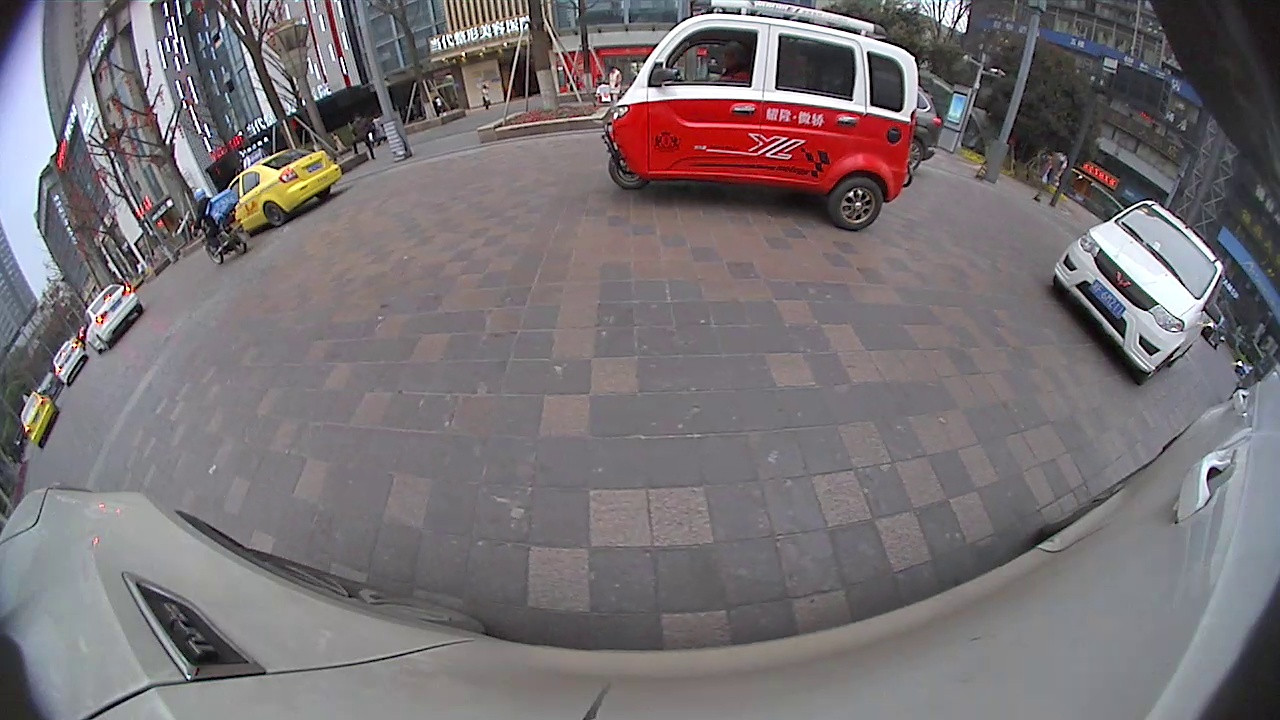car: (1050, 196, 1227, 388), (223, 146, 343, 236), (81, 281, 145, 354), (18, 389, 61, 450), (50, 338, 88, 388)
front: (604, 146, 656, 193)
rear: (823, 173, 887, 232), (901, 134, 926, 176), (261, 201, 288, 232)
rider: (600, 2, 921, 233), (188, 187, 249, 265)
